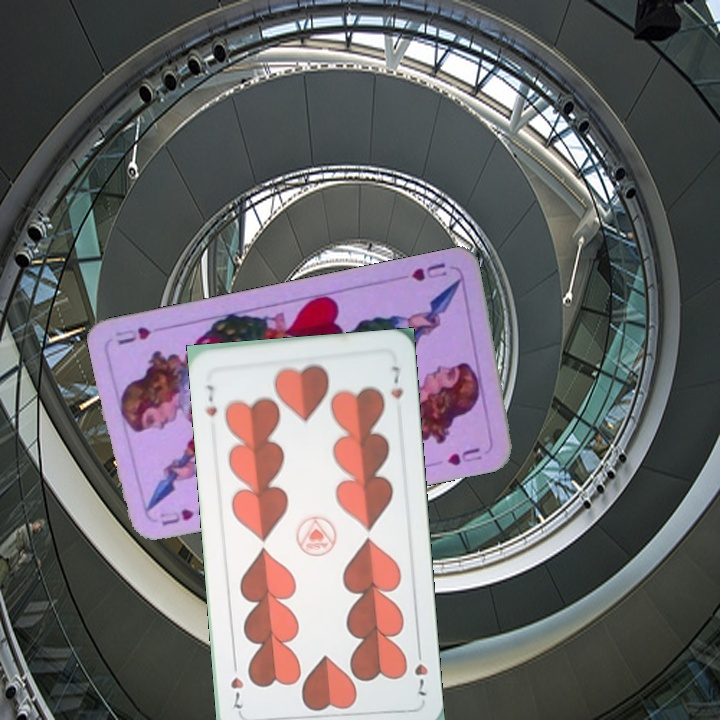H7: (410, 643, 431, 701), (202, 380, 219, 419)
HU: (408, 258, 450, 284), (155, 505, 196, 529)
